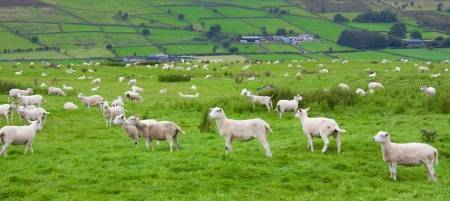sheep: (371, 127, 440, 184), (206, 105, 277, 158), (293, 106, 346, 155), (123, 113, 186, 149), (1, 116, 45, 157), (237, 86, 274, 113), (273, 93, 306, 112), (99, 99, 124, 124), (75, 91, 107, 110), (16, 104, 46, 122), (16, 92, 45, 106), (417, 82, 437, 101), (366, 81, 388, 96), (45, 85, 66, 98), (123, 90, 142, 102)
